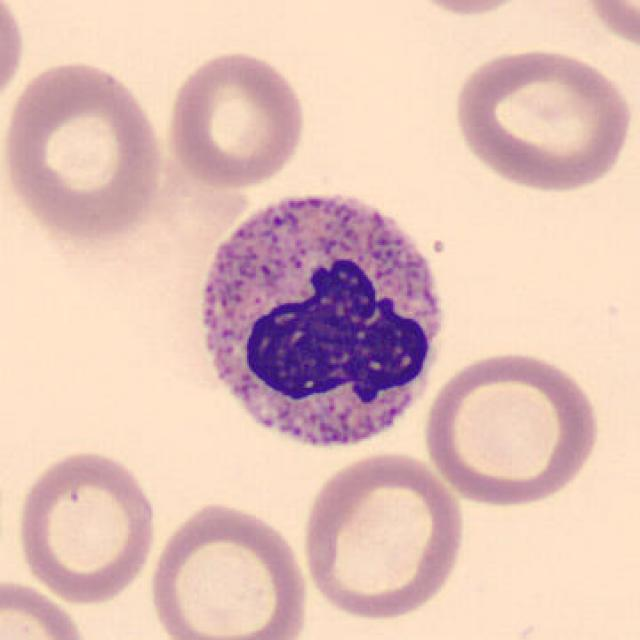Neutrophil: (185, 176, 460, 469)
RBC: (0, 55, 169, 243), (297, 448, 469, 624), (420, 346, 604, 510), (444, 42, 634, 194), (144, 497, 313, 640), (12, 446, 160, 607), (162, 46, 309, 190), (0, 575, 92, 640), (576, 0, 640, 56), (0, 0, 28, 116), (393, 0, 542, 18)
